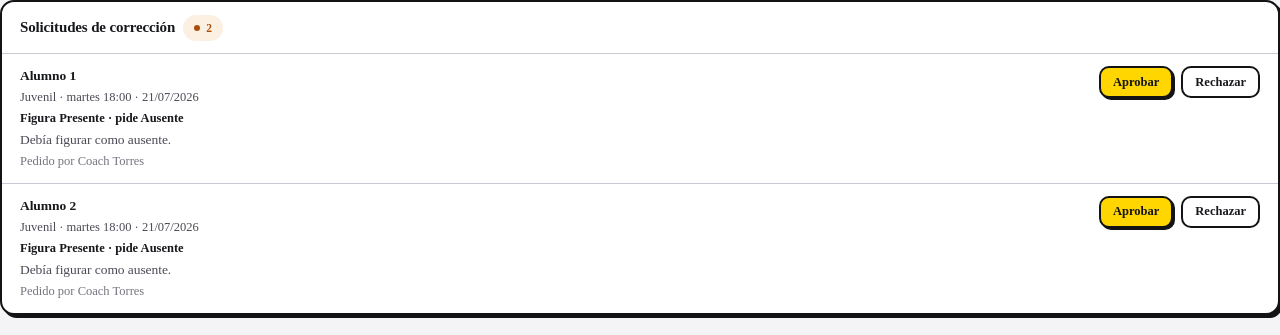
Scenario: CorrectionRequestsInbox (QA4 ENT-25) › approves: applies it, removes the row and tells the page to reload
Step 1. Click the button "Aprobar" in the row of "Alumno 1" → (1136, 82), box x1=1099 y1=66 x2=1173 y2=98
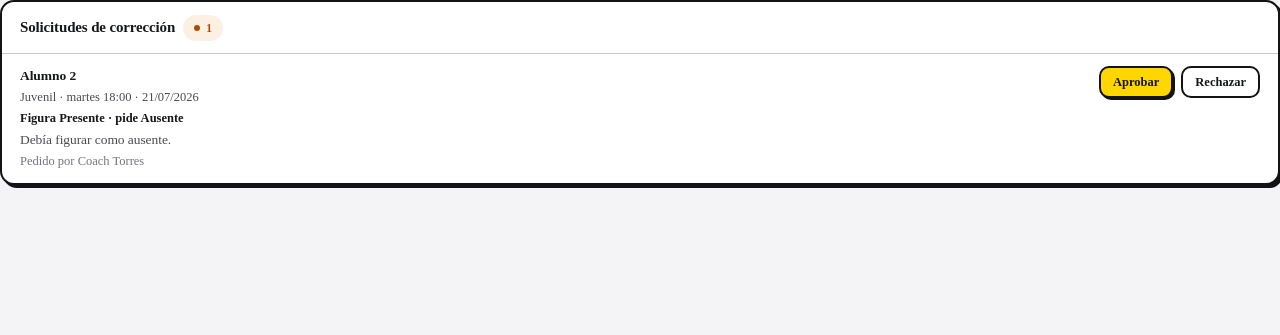
Expected: the text "Alumno 2" is shown, x1=20 y1=68 x2=76 y2=83
Now the text "Alumno 1" is gone
Now the picture named "1 solicitud pendiente" is shown, box x1=183 y1=14 x2=223 y2=41
